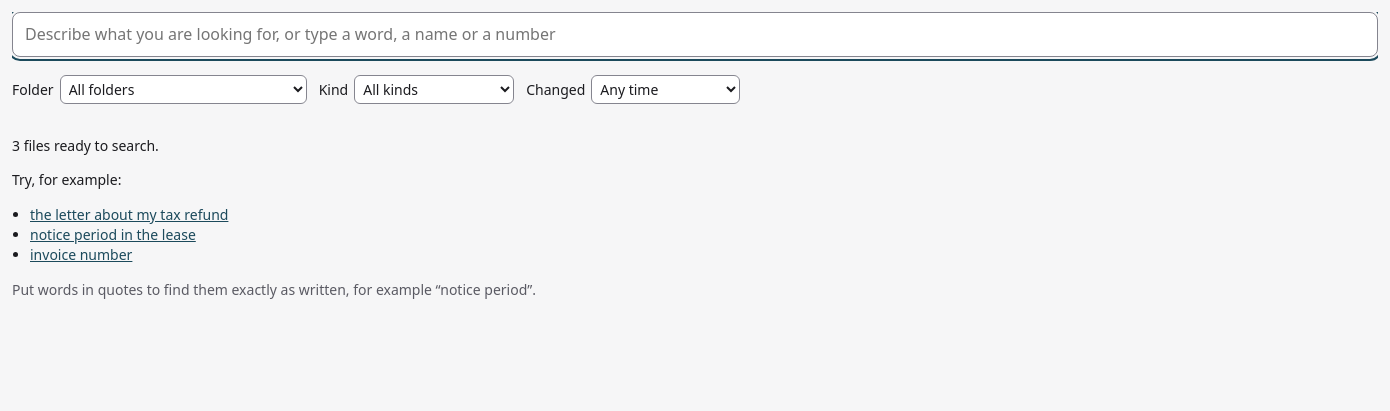
Scenario: the search screen › starts ready, with examples and a summary
Check: the text "3 files ready to search." is shown, box x1=12 y1=136 x2=159 y2=155
Click the button "notice period in the lease" at (113, 235), box x1=30 y1=225 x2=196 y2=245
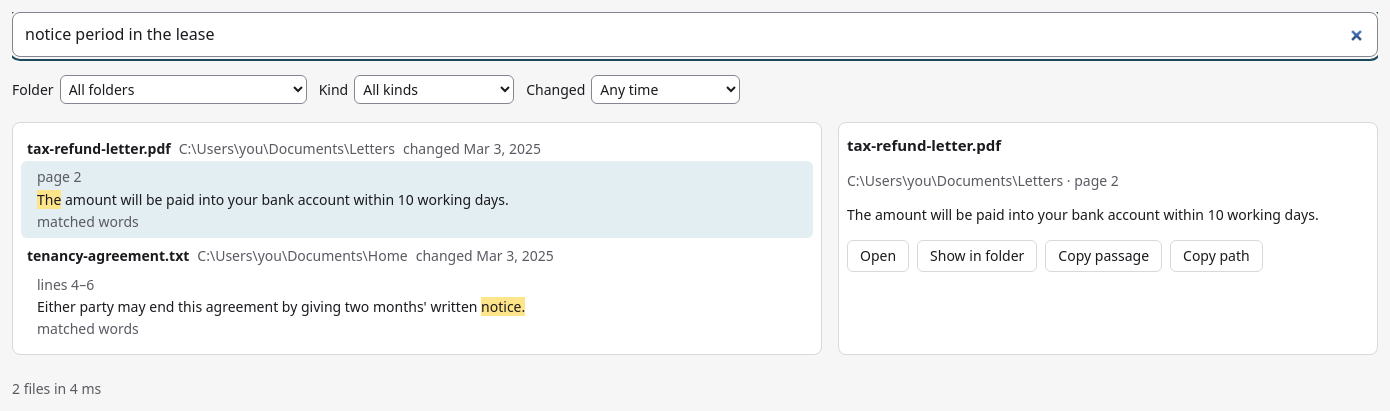
Check: the search field holds "notice period in the lease", box x1=12 y1=12 x2=1378 y2=57
